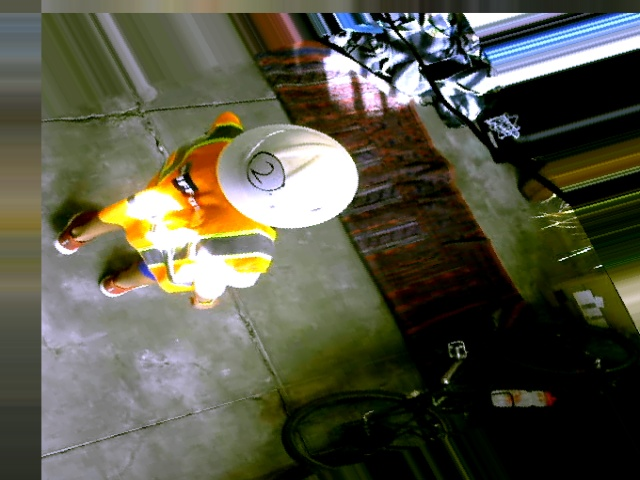two: (236, 148, 293, 196)
